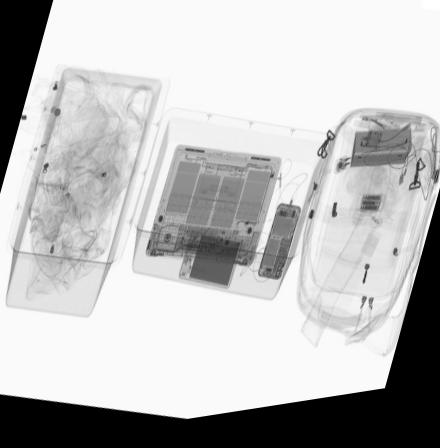Powerbank: (178, 236, 244, 296)
